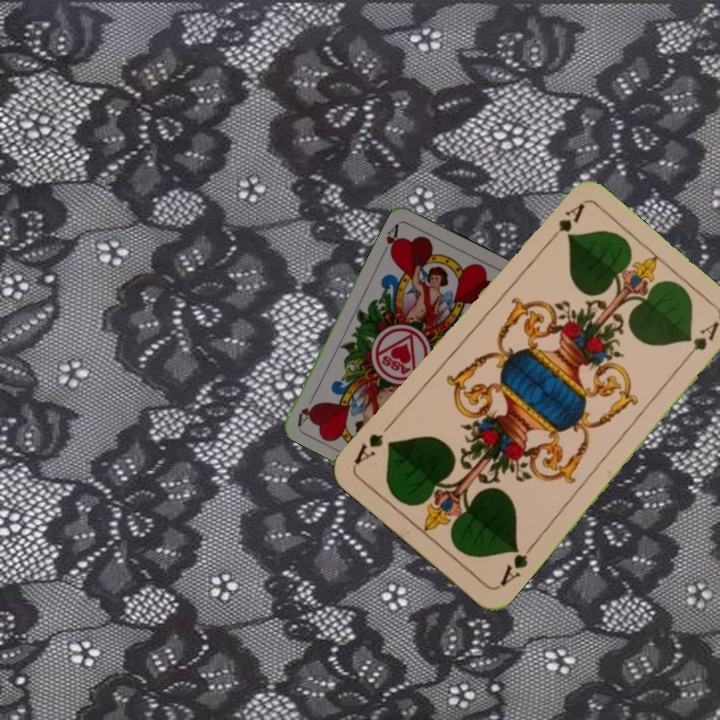GA: (542, 200, 587, 248), (495, 540, 537, 590)
HA: (379, 219, 402, 259)
